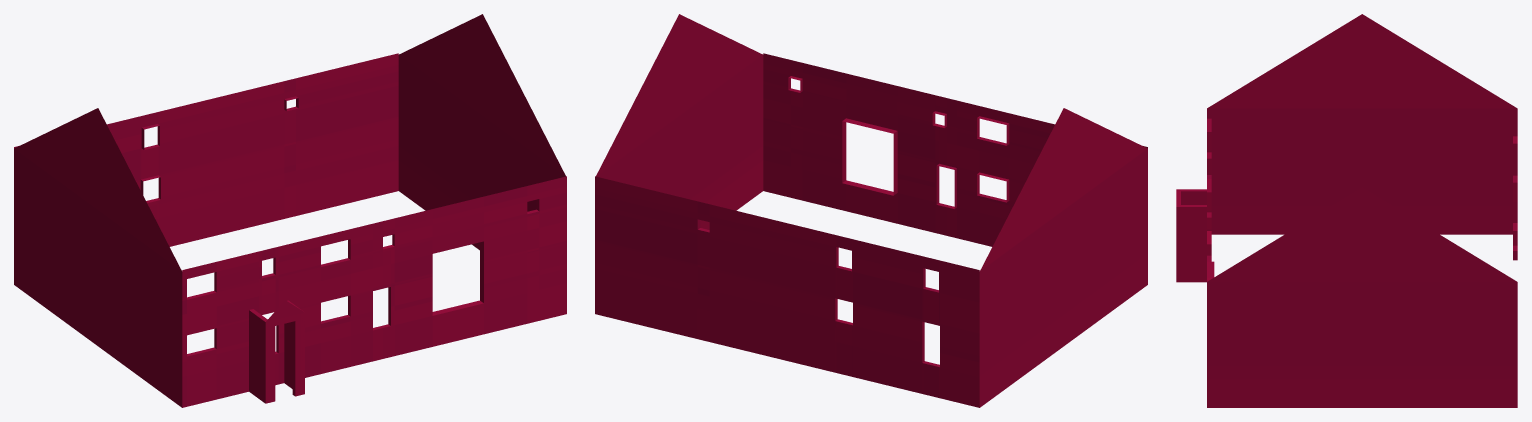
Rendered from SM_Bld_113_Masonry.glb.
The picture shows the model from 3 angles, left to right: view 1: azimuth 30°, elevation 25°; view 2: azimuth 150°, elevation 25°; view 3: azimuth 270°, elevation 25°; orthographic projection. The views are drawn at different scales.
Visible parts, largest first — view 1: SM_Bld_113_Masonry; view 2: SM_Bld_113_Masonry; view 3: SM_Bld_113_Masonry.
Part boxes in pixels (x1,y1,x2,y2): SM_Bld_113_Masonry: (14, 14, 566, 407); SM_Bld_113_Masonry: (595, 14, 1147, 407); SM_Bld_113_Masonry: (1176, 14, 1517, 407).
Bounding box in the file's own units: 19.48 × 11.55 × 16.2.
